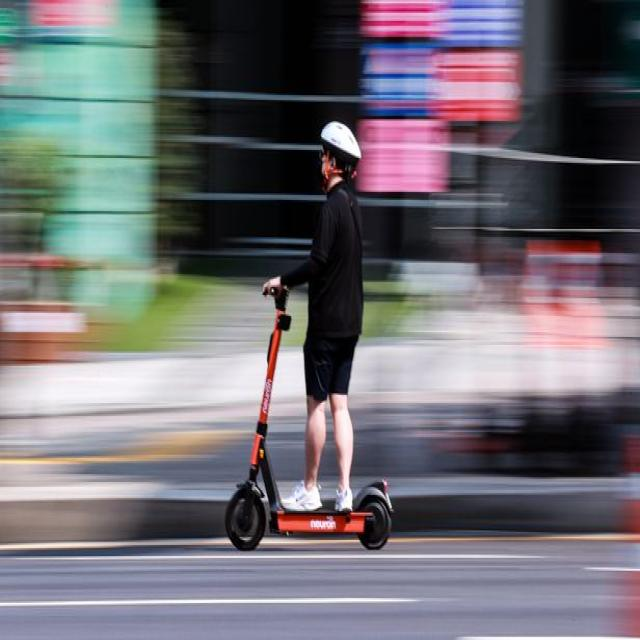helmet: (222, 116, 396, 560)
